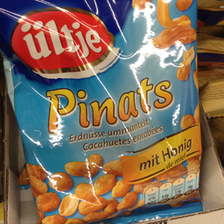nuts: (1, 1, 204, 224)
